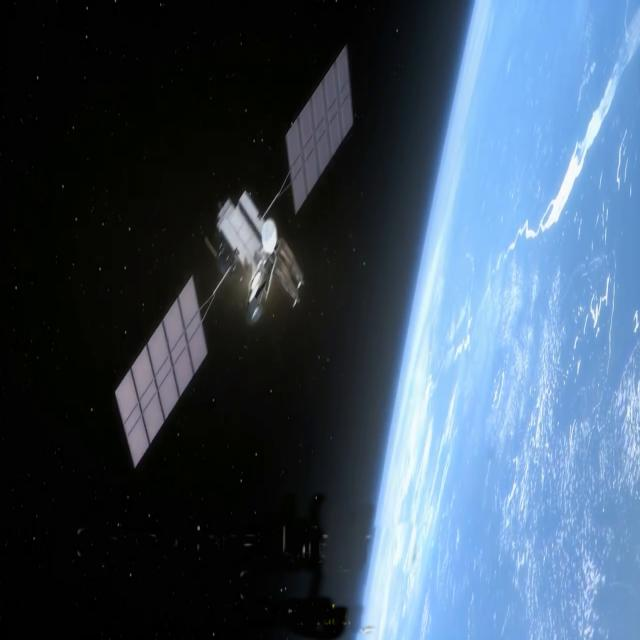medium_debris: (90, 23, 384, 486)
